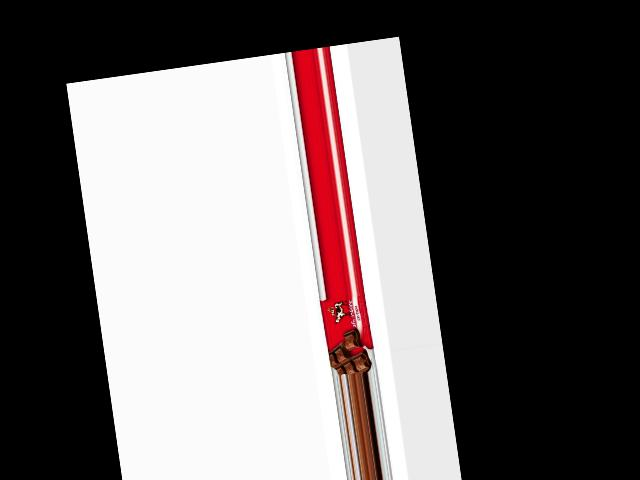chocolate: (320, 292, 376, 376)
